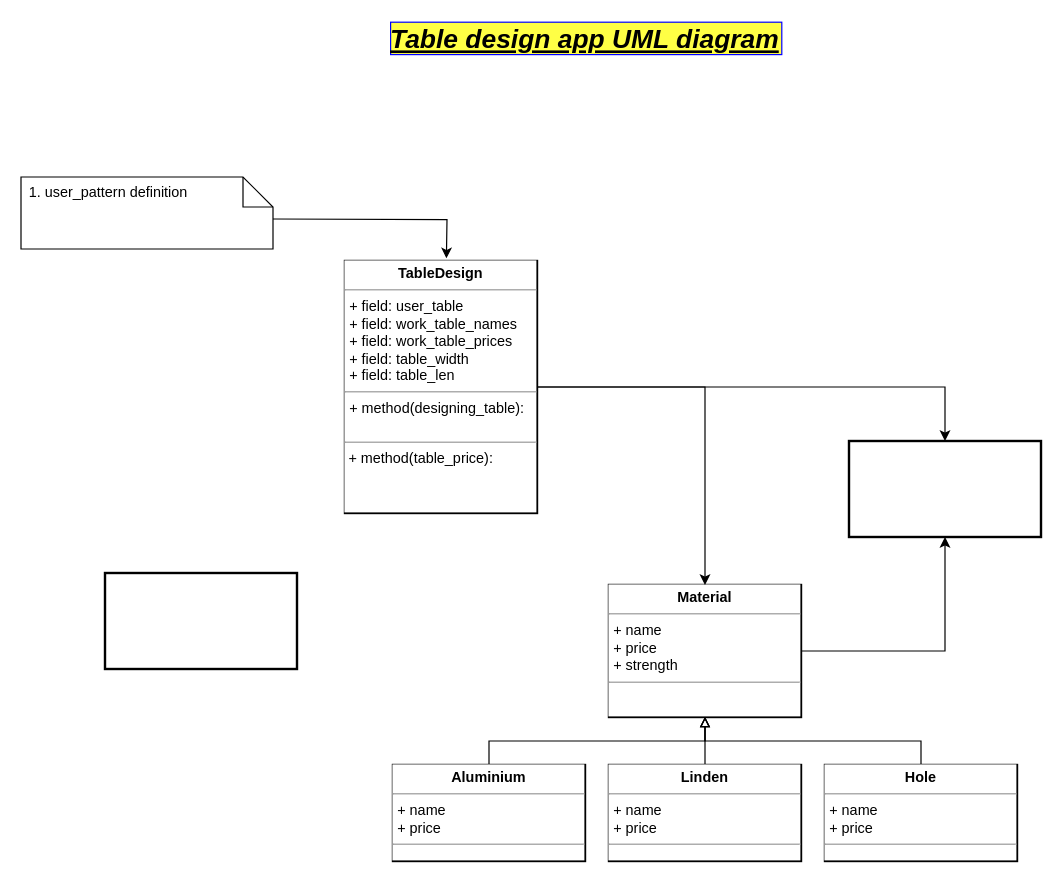
The diagram is 1063 pixels wide and 882 high, and some of its shapes have lost their labels. The centre of each missing label's shape, as x and y in pixels:
2. What to print as result ?: the point at 146,212
Exceptions: the point at 200,620
Printer + table + param: the point at 944,488
